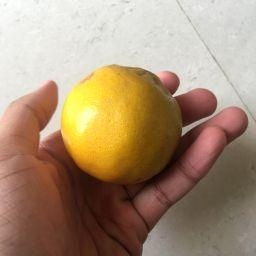Ripe: (59, 67, 185, 183)
